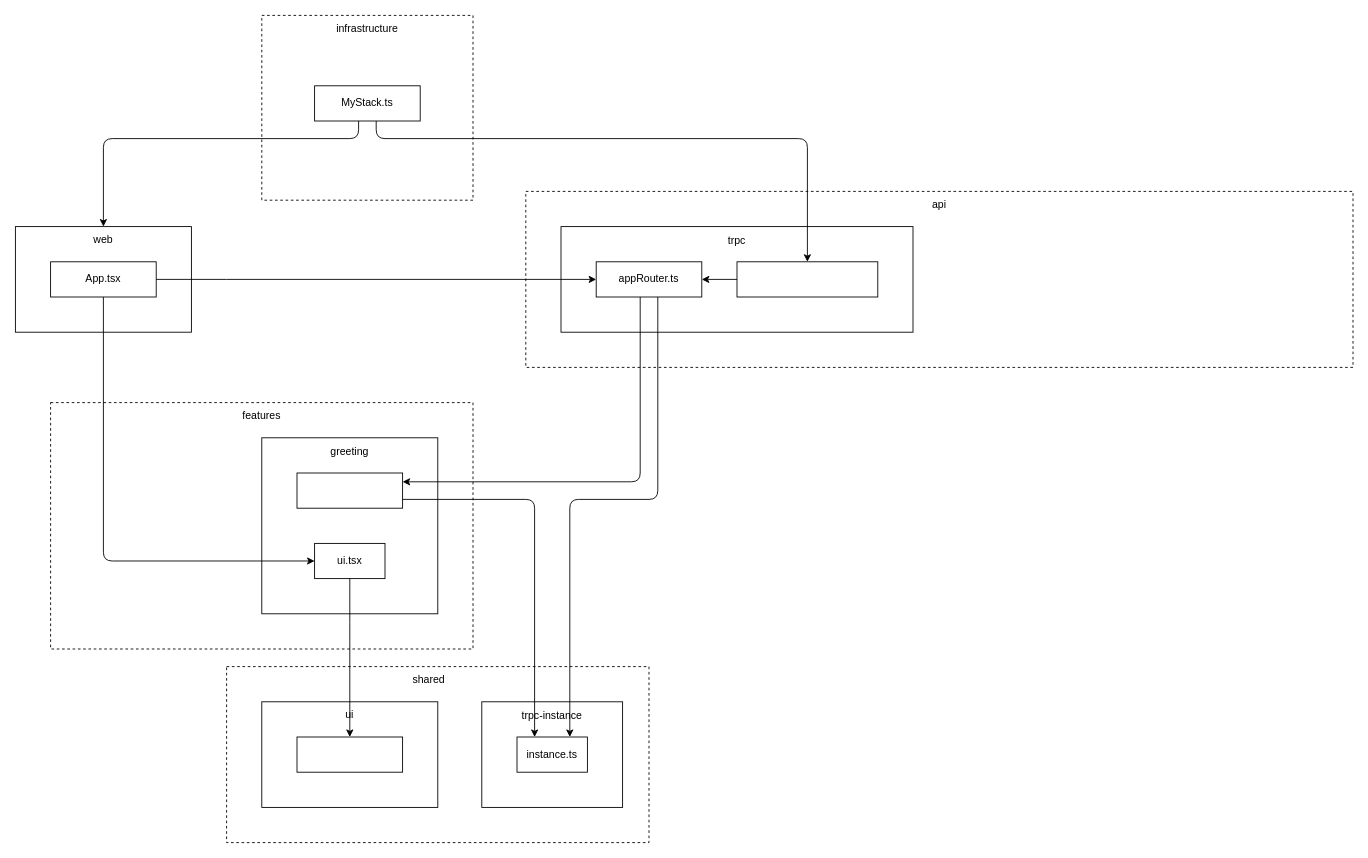
This 1368x858 diagram has some shape labels left out. Each missing label, with the centre of its shape:
"awsLambdaHandler.ts" goes at pixel 807 279.
"buttons.tsx" goes at pixel 349 754.
"router.ts" goes at pixel 349 490.
